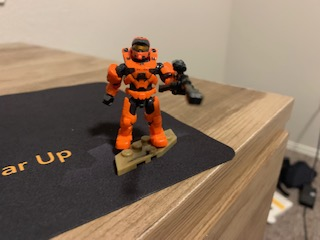spartan: (101, 34, 175, 155)
